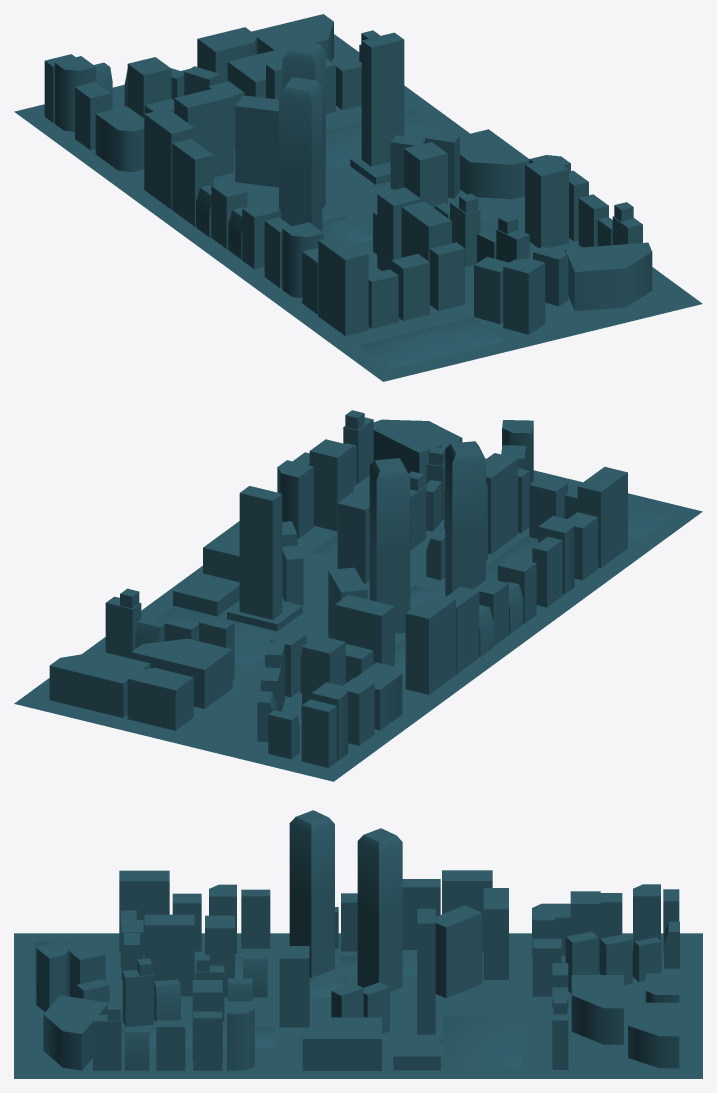
Rendered from town2.fbx.
3 renders of one model, top to bottom at view 1: azimuth 30°, elevation 25°; view 2: azimuth 150°, elevation 25°; view 3: azimuth 270°, elevation 25°, orthographic. The views are drawn at different scales.
Size of the model in its own units: 256 by 124 by 512.
